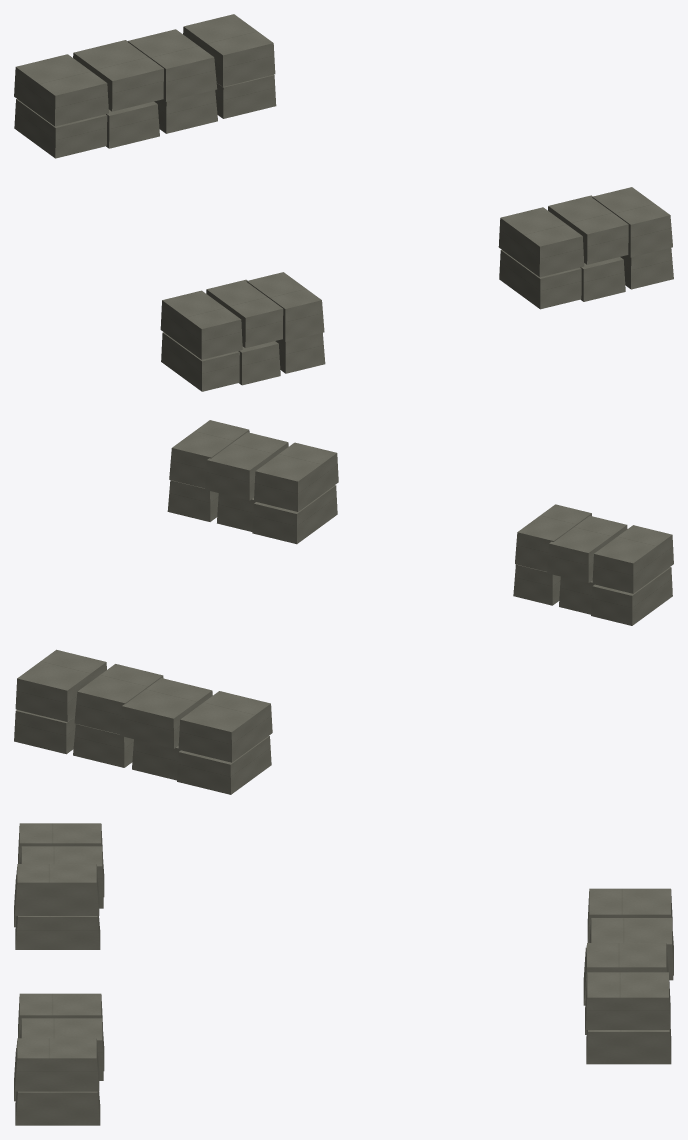
Rendered from part_stone_block.glb.
3 views of the same model, one above another, from view 1: azimuth 30°, elevation 25°; view 2: azimuth 150°, elevation 25°; view 3: azimuth 270°, elevation 25° (orthographic). The views are drawn at different scales.
Visible parts, largest first — view 1: stone_block; view 2: stone_block; view 3: stone_block.
Part boxes in pixels (bbox=[...]): stone_block: bbox=[14, 14, 673, 391]; stone_block: bbox=[14, 420, 673, 794]; stone_block: bbox=[14, 823, 673, 1125].
Bounding box in the file's own units: 4.39 × 0.5717 × 5.16.
Materials: 1 (1 with a texture image).
